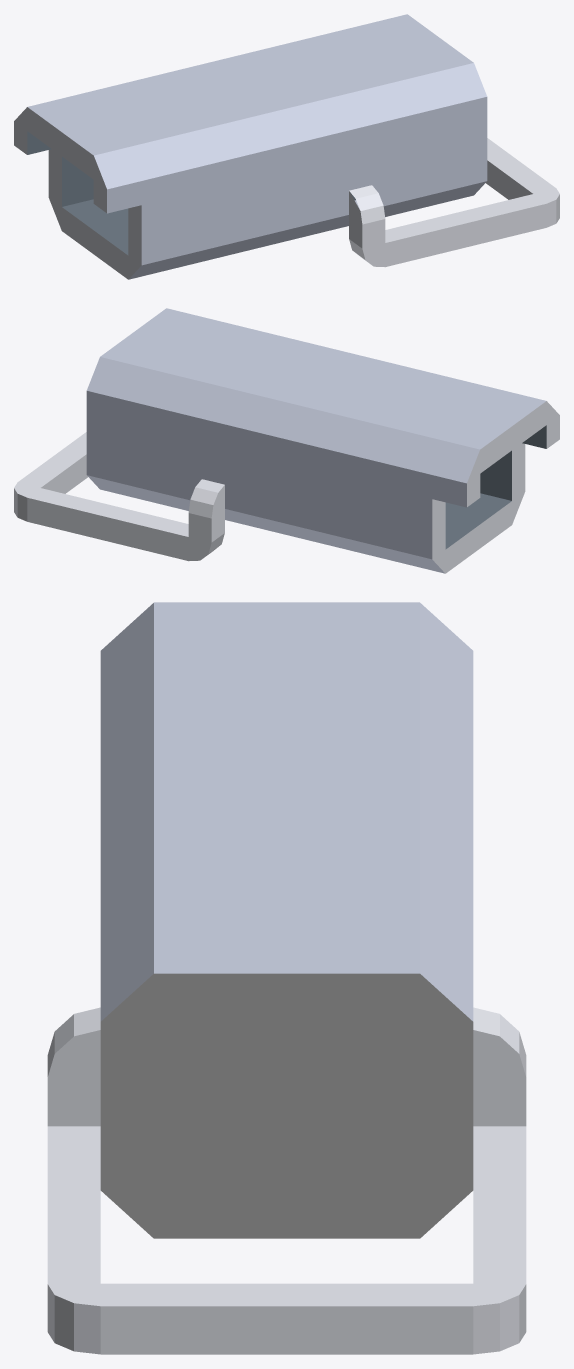
Rendered from Barrel_E.fbx.
The picture shows the model from 3 angles, top to bottom: view 1: azimuth 30°, elevation 25°; view 2: azimuth 150°, elevation 25°; view 3: azimuth 270°, elevation 25°; orthographic projection. The views are drawn at different scales.
Visible parts, largest first — view 1: polySurface582; view 2: polySurface582; view 3: polySurface582.
Part boxes in pixels (box(x1,y1,x2,y2)): polySurface582: box(14, 14, 559, 279); polySurface582: box(14, 308, 559, 573); polySurface582: box(47, 602, 526, 1354).
Bounding box in the file's own units: 39 × 13 × 18.
